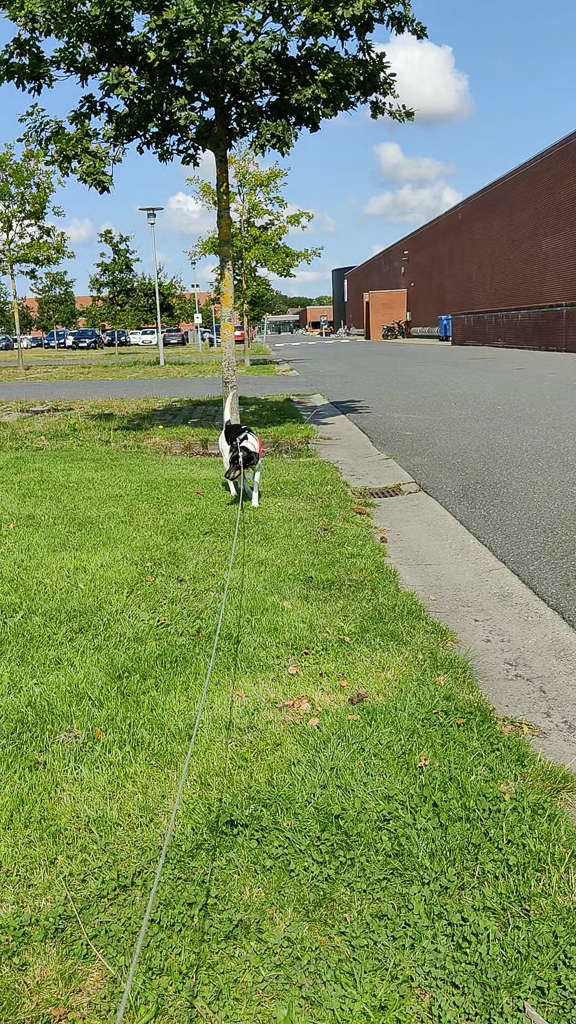Dog: (209, 383, 276, 518)
